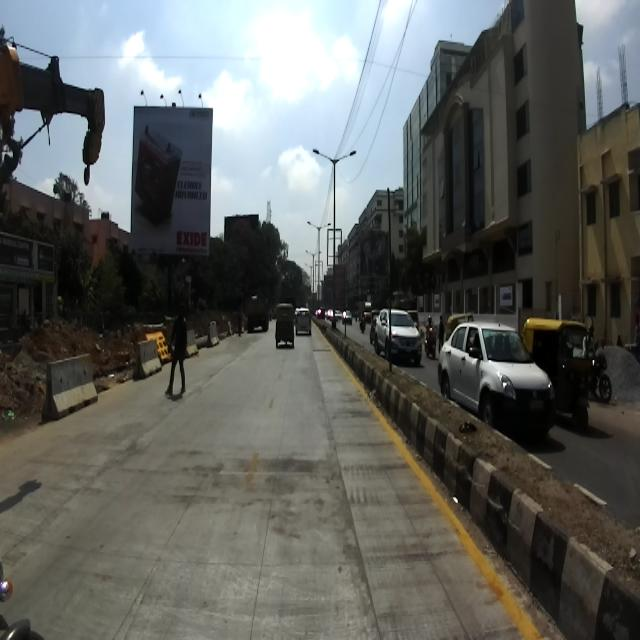auto ahead at: (272, 299, 296, 357)
barrier ahead at: (44, 349, 100, 422)
person ahead at: (164, 303, 192, 395)
